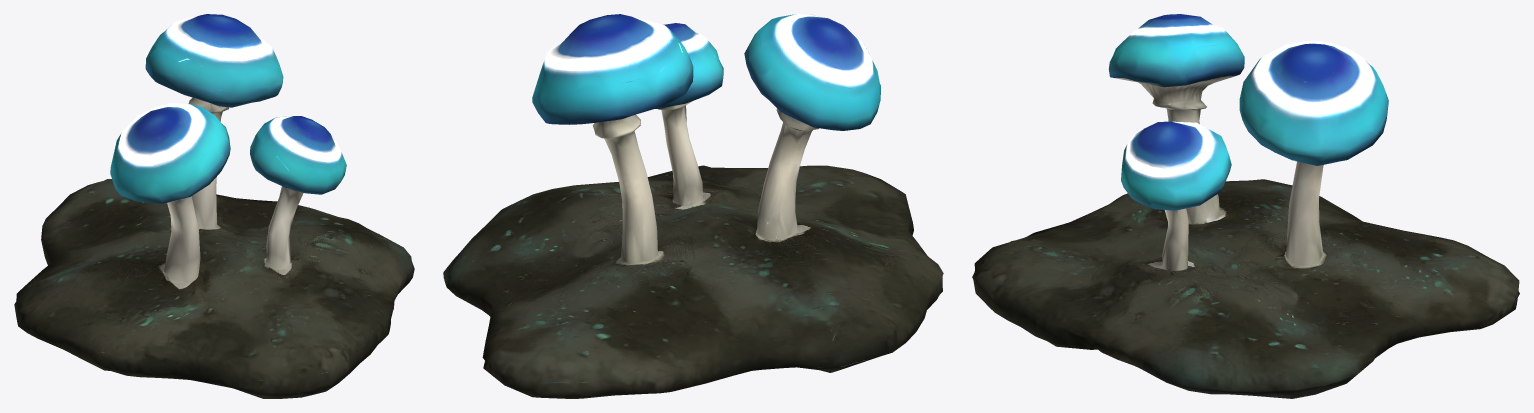
The picture shows the model from 3 angles, left to right: view 1: azimuth 30°, elevation 25°; view 2: azimuth 150°, elevation 25°; view 3: azimuth 270°, elevation 25°; orthographic projection. The views are drawn at different scales.
Parts seen in each view (by area): view 1: Mesh_0; view 2: Mesh_0; view 3: Mesh_0.
Part boxes in pixels (<box>): Mesh_0: <box>14,14,414,398</box>; Mesh_0: <box>443,14,943,398</box>; Mesh_0: <box>972,14,1519,398</box>.
Size of the model in its own units: 1.6 by 1.1 by 1.91.
Materials: 1 (1 with a texture image).
